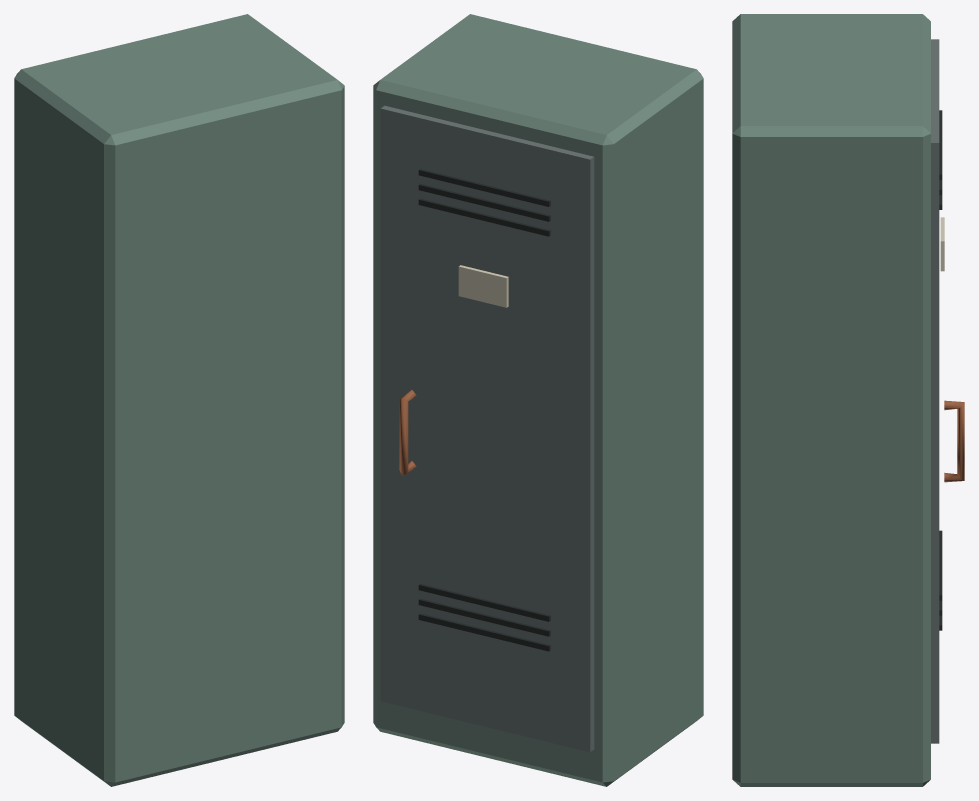
The model's file is locker.glb.
3 renders of one model, left to right at view 1: azimuth 30°, elevation 25°; view 2: azimuth 150°, elevation 25°; view 3: azimuth 270°, elevation 25°, orthographic.
Parts seen in each view (by area): view 1: locker; view 2: locker; view 3: locker.
Part boxes in pixels (box(x1,y1,x2,y2)): locker: box(14, 14, 344, 786); locker: box(373, 14, 703, 786); locker: box(732, 14, 964, 786).
Bounding box in the file's own units: 0.85 × 2.2 × 0.7013.
